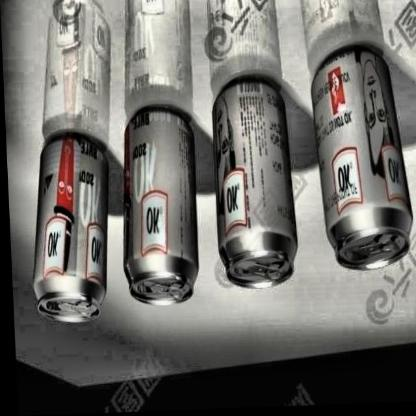Can: (308, 46, 416, 278), (112, 98, 204, 316), (207, 75, 298, 294), (23, 136, 115, 323)
